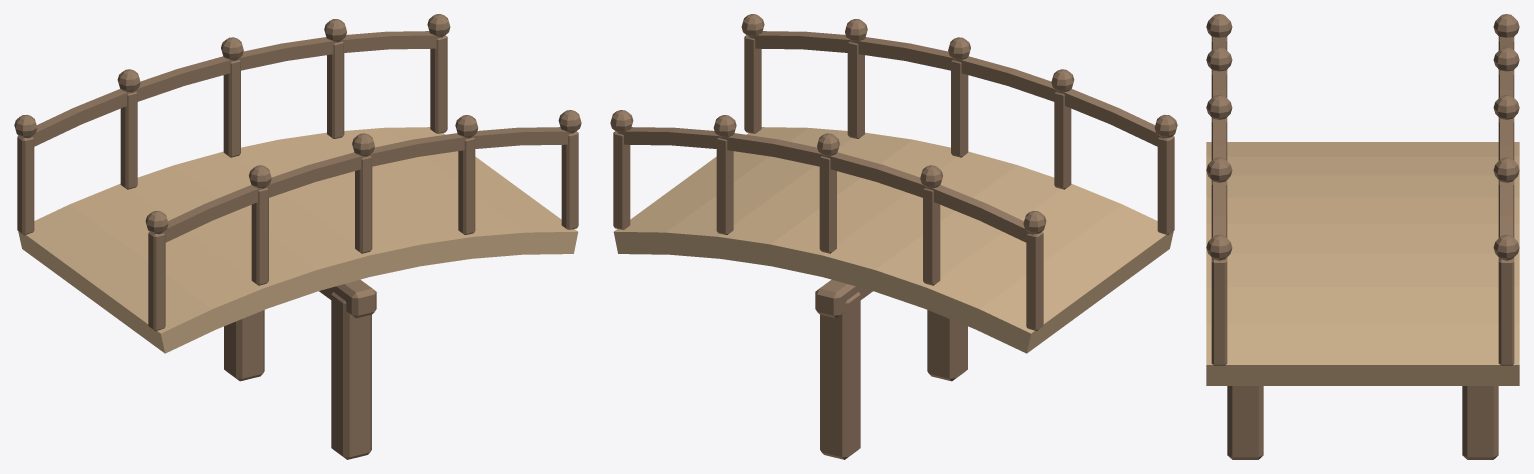
File: feudal-japan-castle-town-moat-bridge-short-1ae3eb5f__26598.glb
The picture shows the model from 3 angles, left to right: view 1: azimuth 30°, elevation 25°; view 2: azimuth 150°, elevation 25°; view 3: azimuth 270°, elevation 25°; orthographic projection. The views are drawn at different scales.
Visible parts, largest first — view 1: moat-bridge-short; view 2: moat-bridge-short; view 3: moat-bridge-short.
Boxes of the visible parts, x1,y1,x2,y2 form: moat-bridge-short: (14, 14, 581, 459); moat-bridge-short: (610, 14, 1177, 459); moat-bridge-short: (1206, 14, 1519, 459).
Size of the model in its own units: 4.2 by 3.03 by 2.4.
